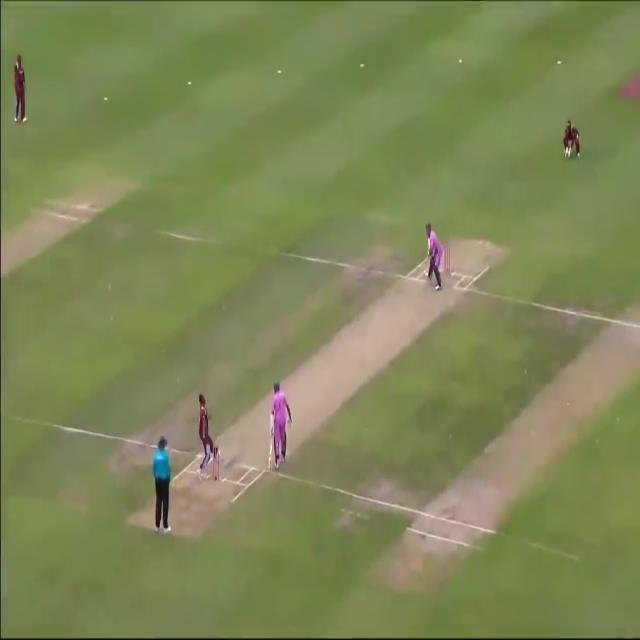Ball: (257, 381, 297, 472), (414, 218, 451, 292)
Fielder: (190, 386, 228, 480), (8, 56, 29, 125), (558, 117, 583, 160)
Umpire: (143, 433, 186, 539)
